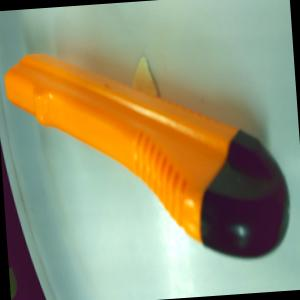estilete: (1, 34, 294, 276)
